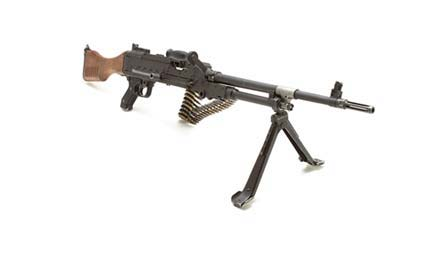rifle: (62, 24, 387, 211)
